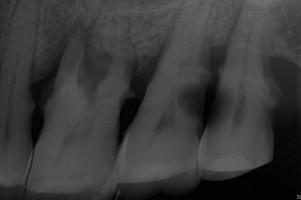Dental Caries: (30, 16, 112, 85)
